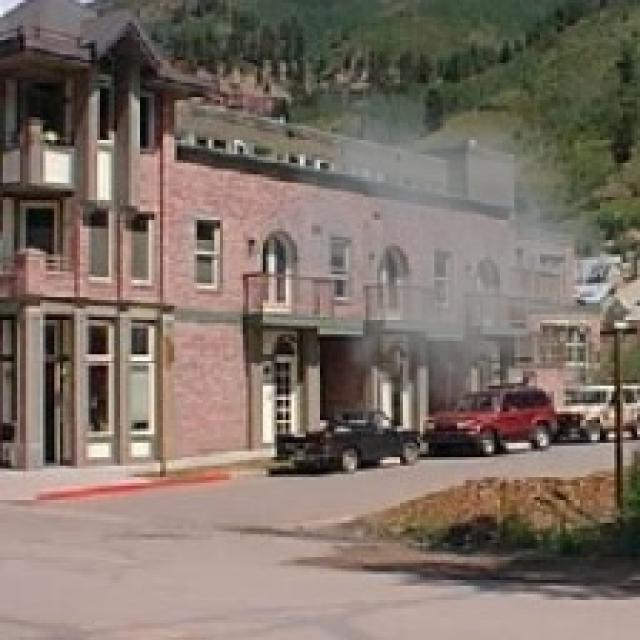smoke: (243, 94, 637, 443)
